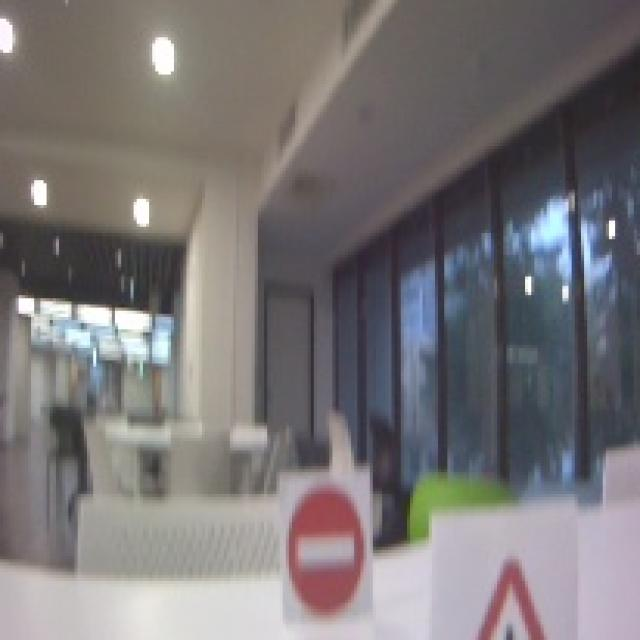DoNotEnterSign: (285, 485, 366, 615)
